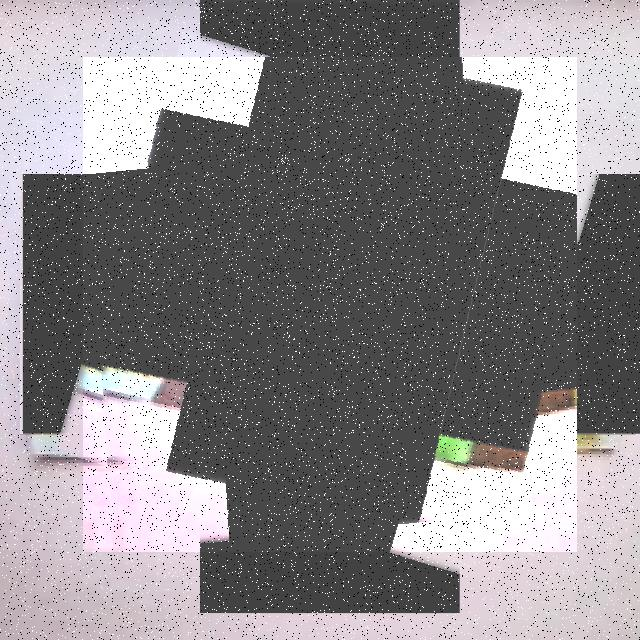lima puluh ribu rupiah: (83, 57, 577, 552)
